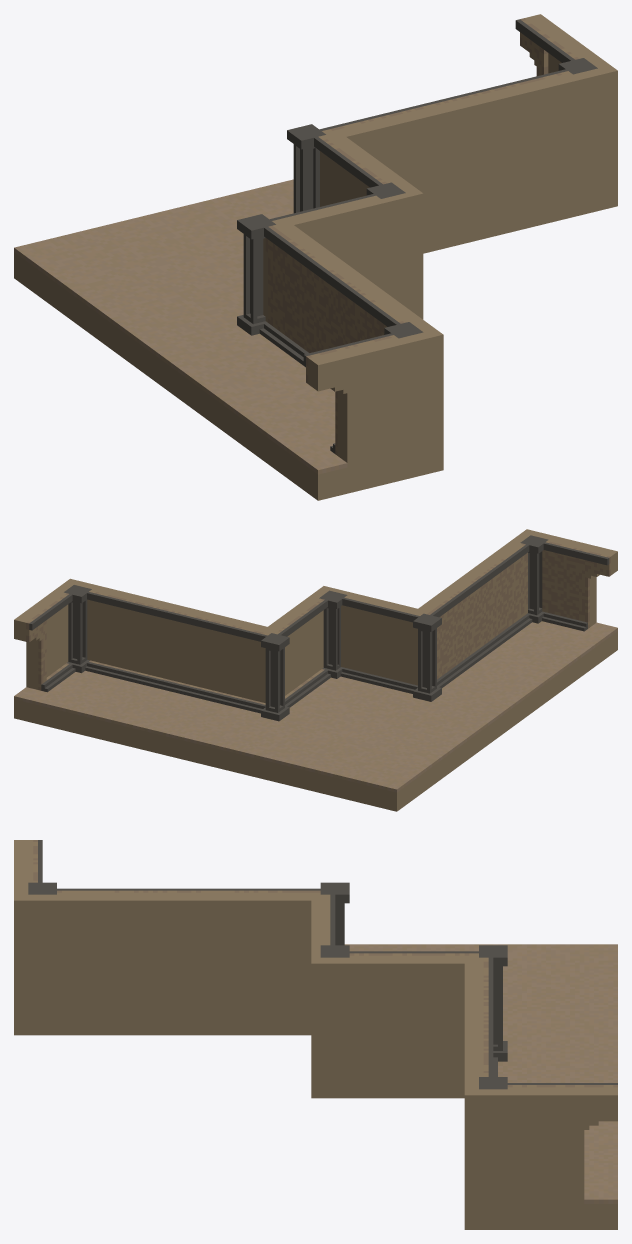
The model's file is LargeRoom3-0.obj.
3 views of the same model, one above another, from view 1: azimuth 30°, elevation 25°; view 2: azimuth 150°, elevation 25°; view 3: azimuth 270°, elevation 25° (orthographic). The views are drawn at different scales.
Bounding box in the file's own units: 12.6 × 3.1 × 12.6.
Materials: 1 (1 with a texture image).
